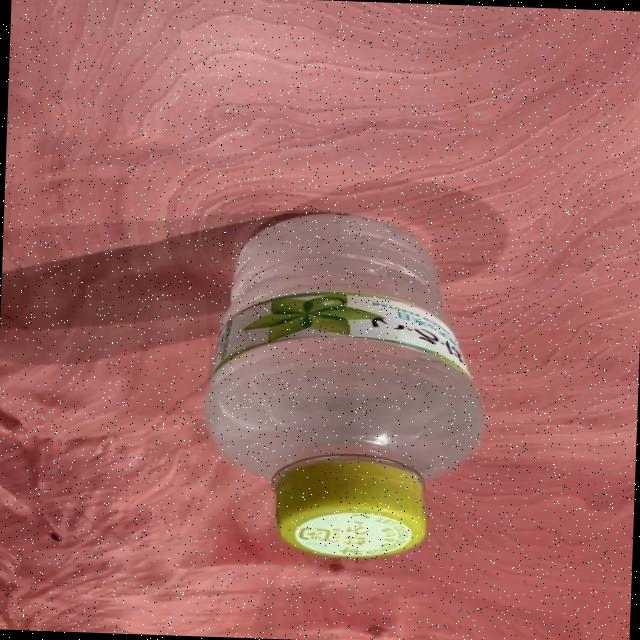bottle: (194, 206, 490, 566)
cap: (265, 452, 430, 566)
label: (194, 280, 492, 380)
